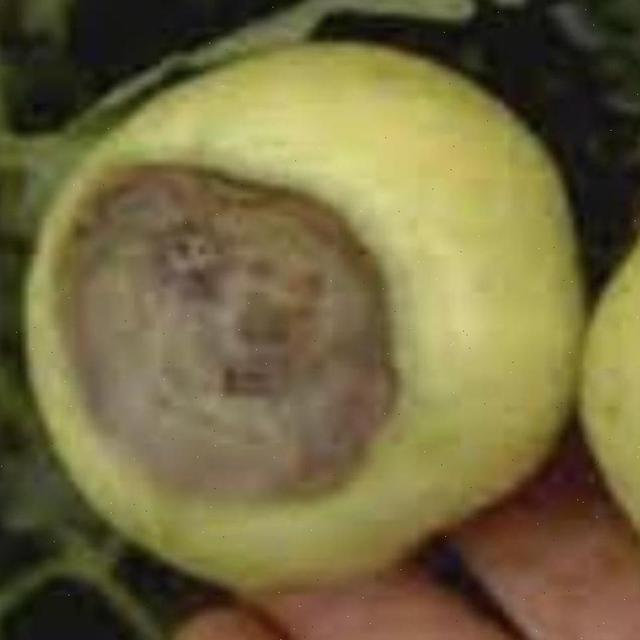Blossom End Rot Fruit: (30, 108, 269, 347)
